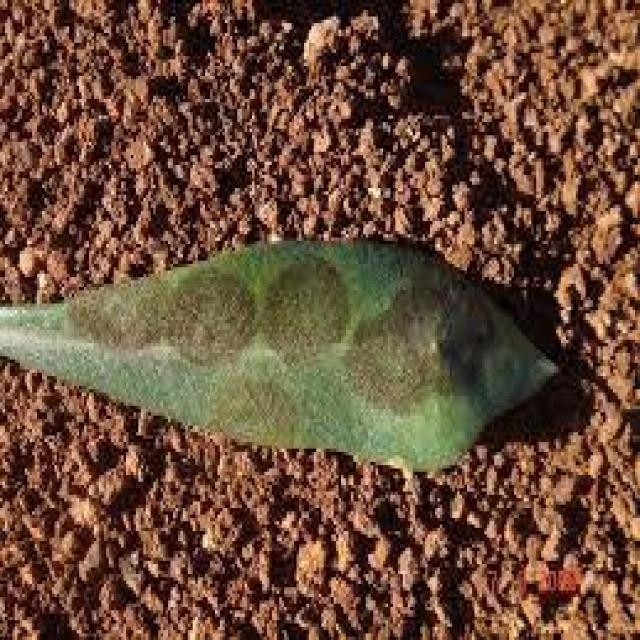OlivePeacockSpot: (0, 244, 556, 468)
